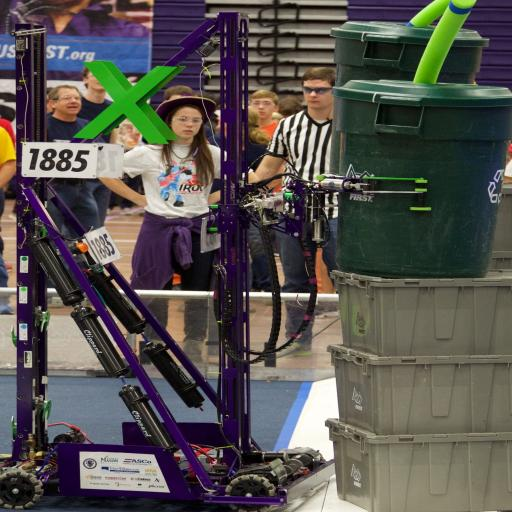robot: (15, 12, 337, 500)
